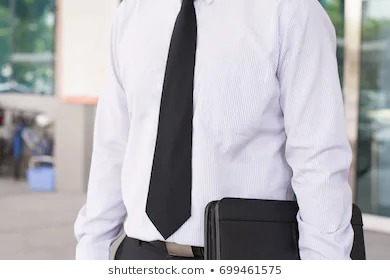F_tie: (137, 1, 205, 241)
